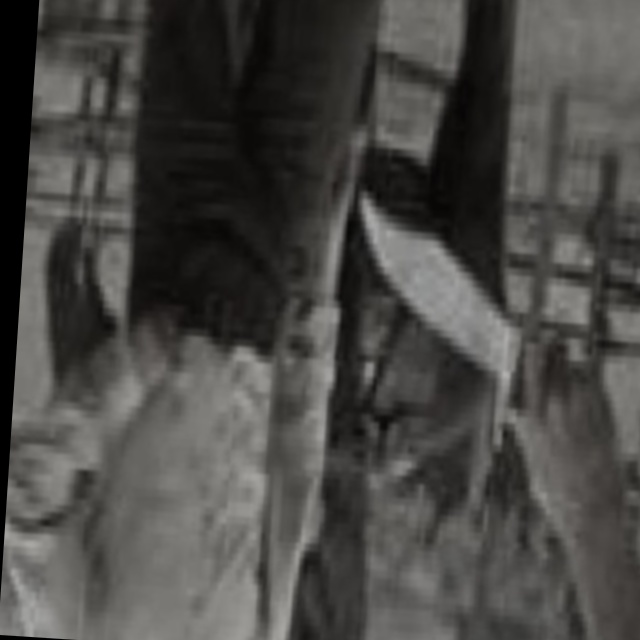Sharp-Object: (345, 190, 534, 444)
